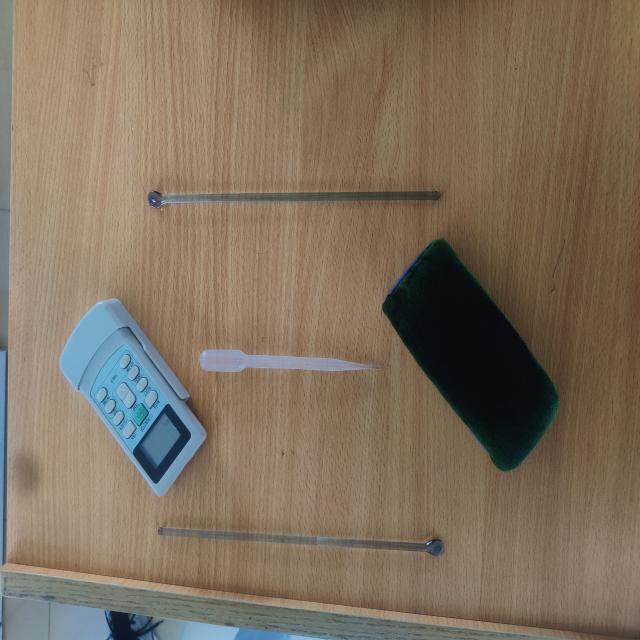Glass_Rod: (124, 504, 464, 594), (117, 173, 458, 248)
Pipette: (150, 323, 407, 398)
